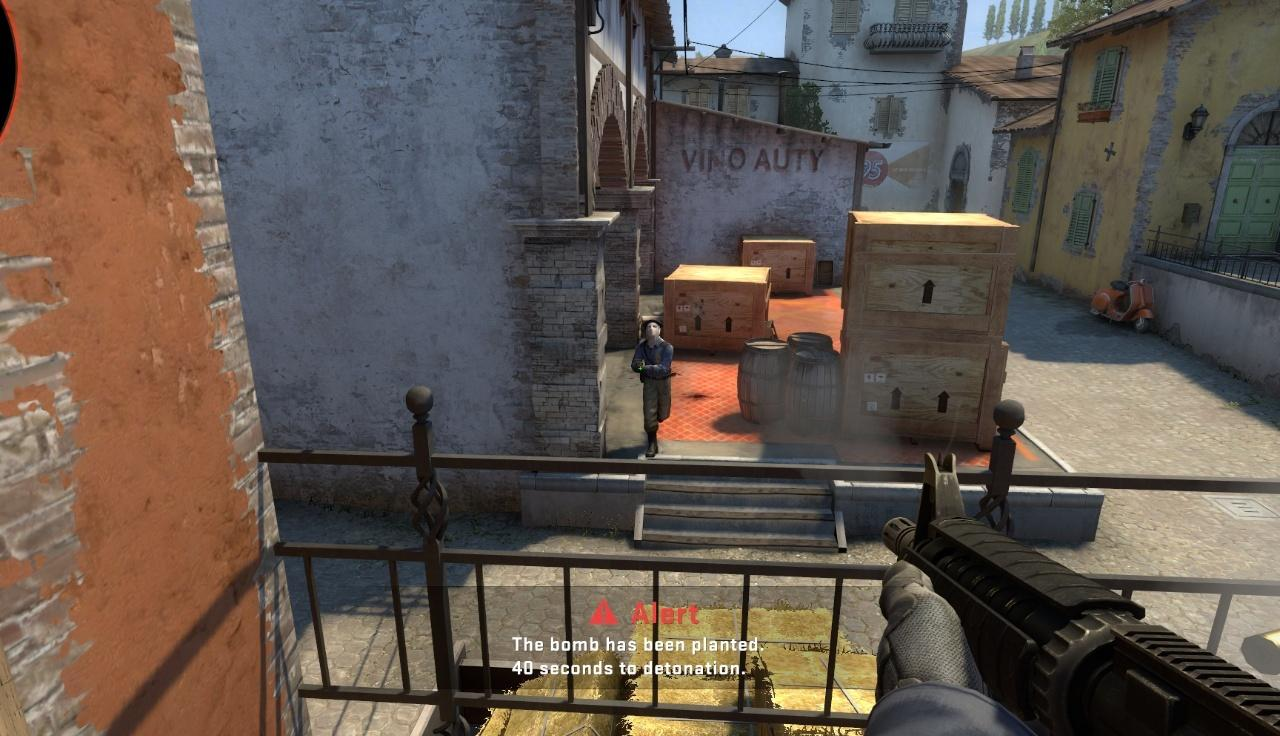rifle: (860, 448, 1279, 726)
tt: (632, 320, 674, 457)
tthead: (644, 321, 661, 342)
